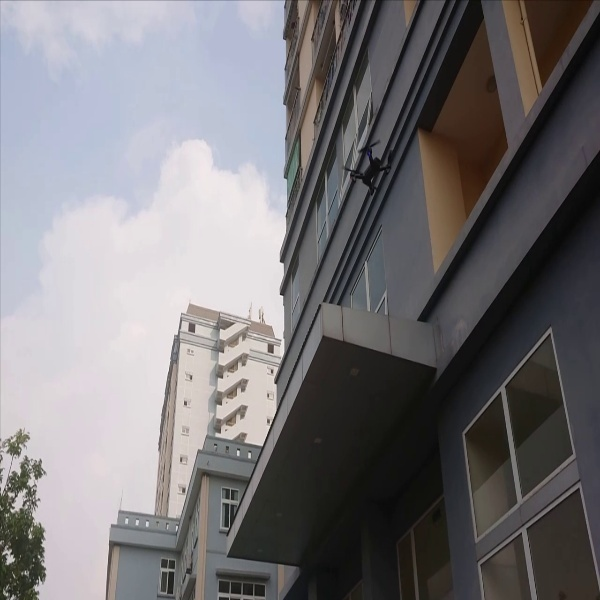drone: (345, 135, 397, 197)
